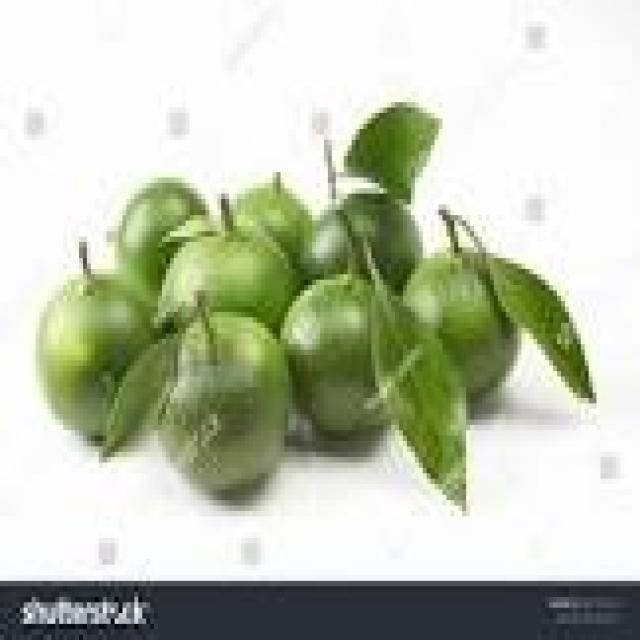orange: (162, 312, 288, 489), (36, 242, 150, 436), (403, 247, 518, 398), (280, 274, 383, 436), (158, 226, 296, 328), (115, 177, 205, 301), (304, 188, 419, 285), (233, 172, 308, 274)
